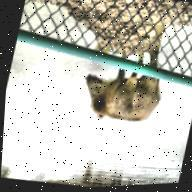boar: (74, 40, 171, 131)
